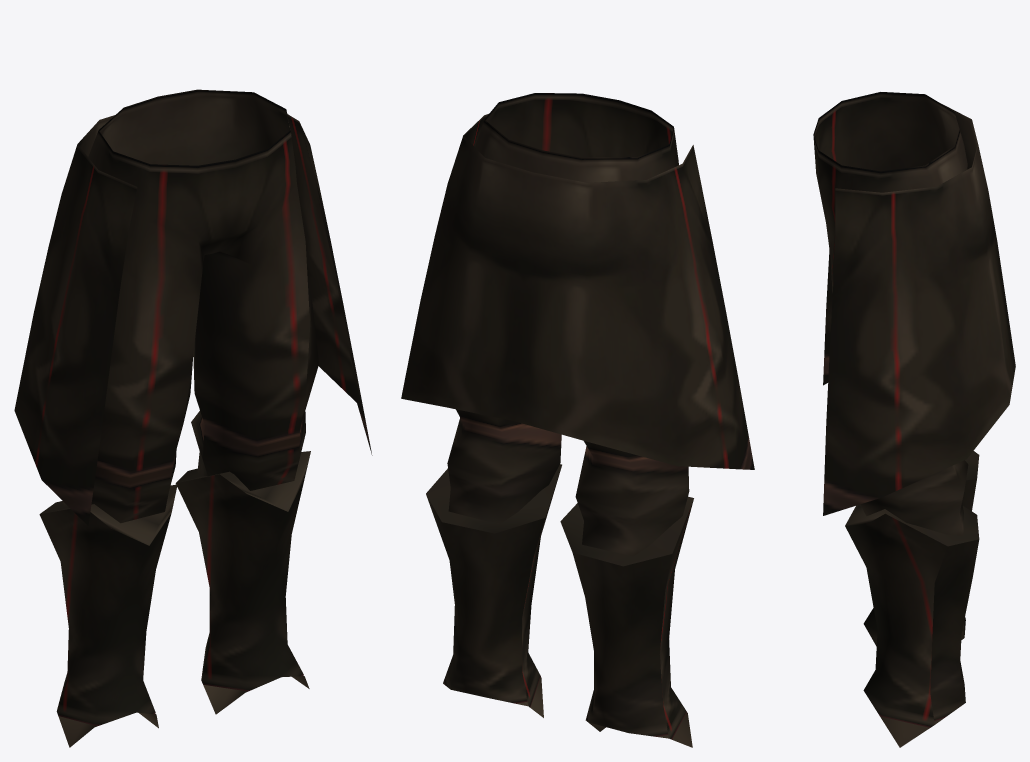
File: hum_vanquisher_01_2cc5c988.glb
3 views of the same model, side by side, from view 1: azimuth 30°, elevation 25°; view 2: azimuth 150°, elevation 25°; view 3: azimuth 270°, elevation 25° (orthographic). The views are drawn at different scales.
Size of the model in its own units: 0.7854 by 1.57 by 0.5158.
Materials: 1 (1 with a texture image).
